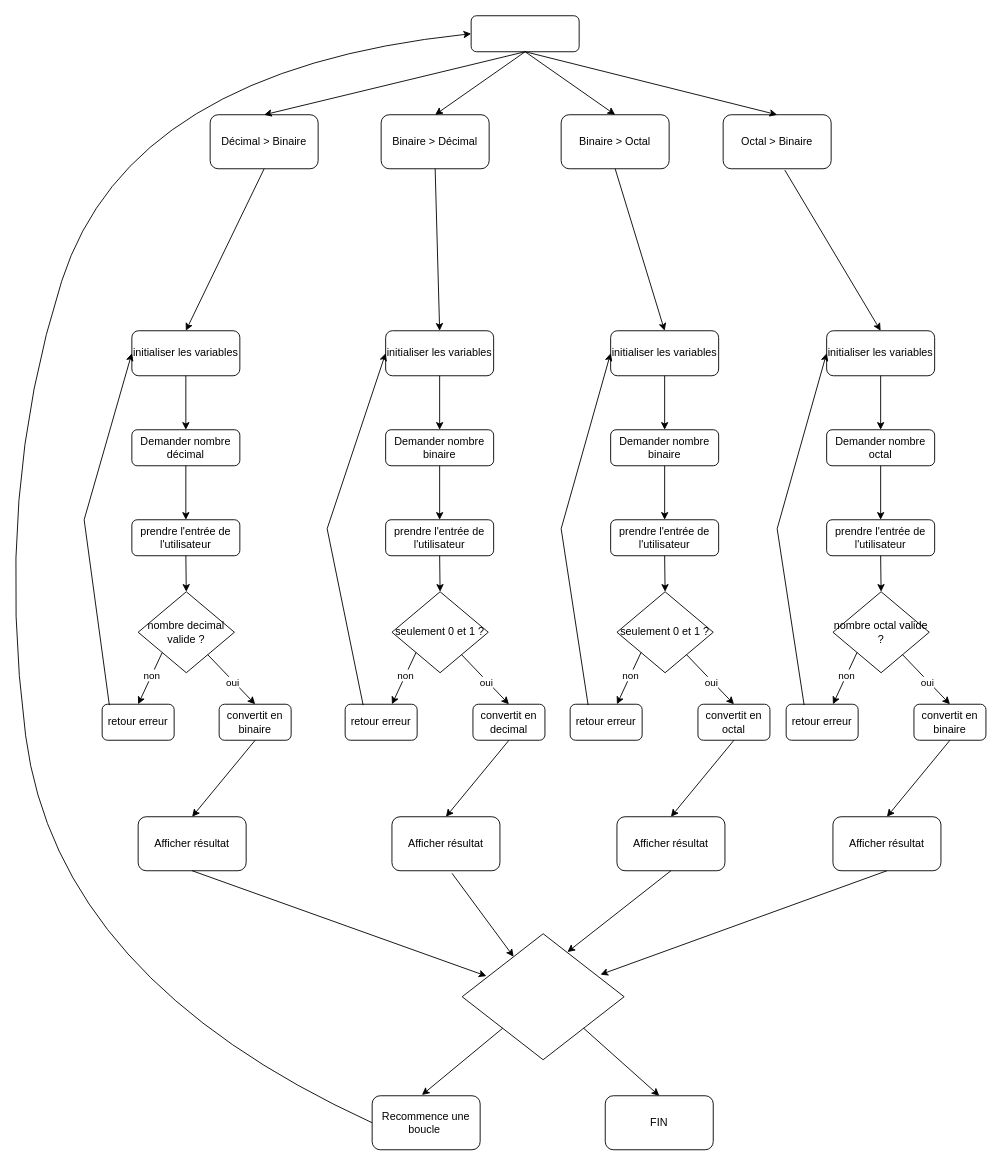
Image size: 1003x1166. Some labels were removed from this diagram. The box of each missing label's shape, as (x1, y1, x2, y2) in pixels:
DEBUT: (470, 15, 579, 52)
Voulez vous recommencer ?: (461, 933, 624, 1060)
